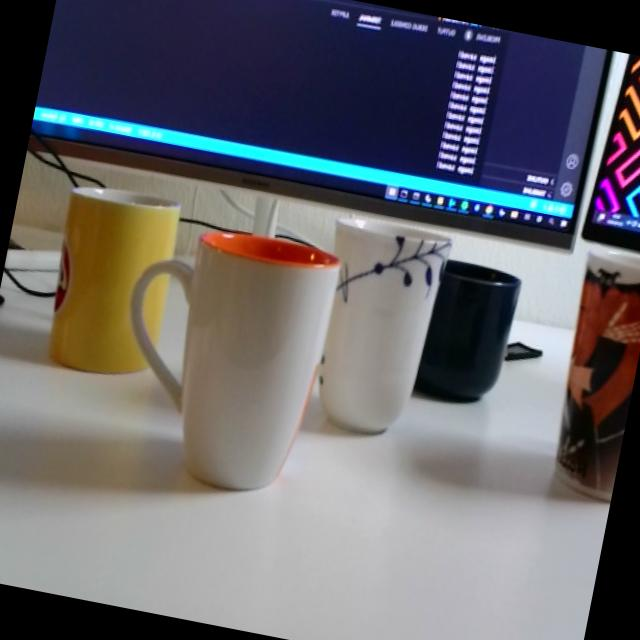Cocio Cup: (36, 177, 196, 388)
Cup: (414, 258, 524, 408)
Halloween cup: (544, 254, 640, 506)
Hand painted cup: (302, 215, 453, 447)
White Cup: (97, 208, 346, 506)
